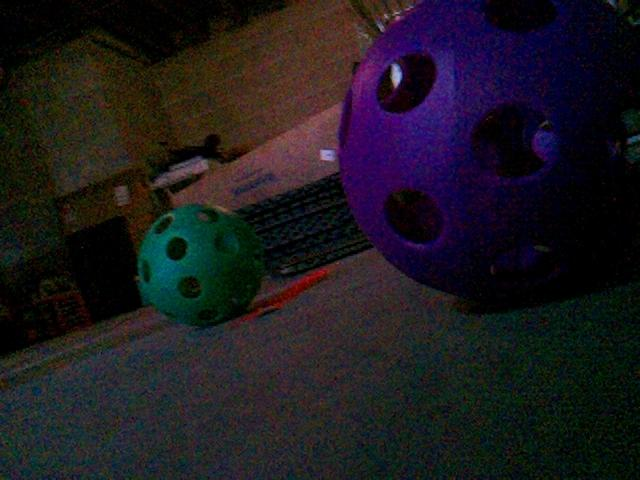Green: (133, 201, 267, 327)
Purple: (334, 1, 637, 310)
